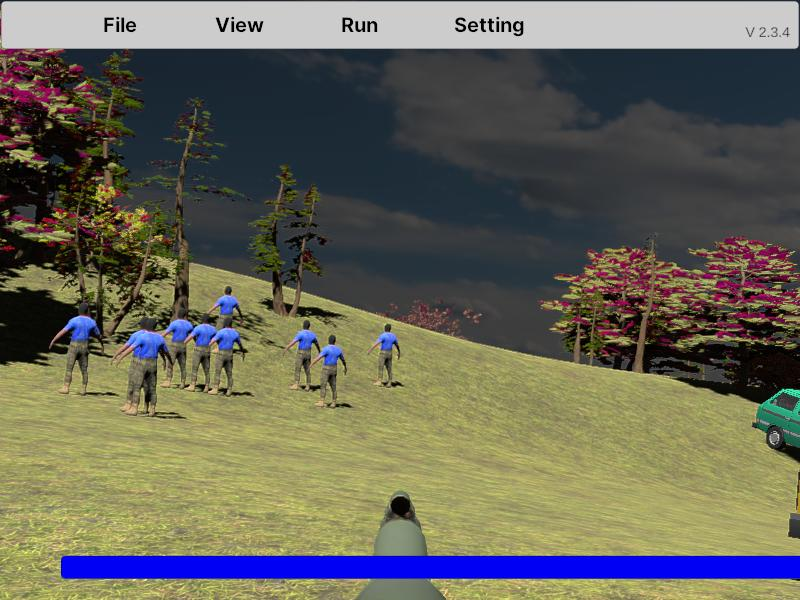Human: (113, 318, 172, 417), (49, 303, 105, 396), (158, 304, 199, 389), (184, 312, 222, 393), (207, 316, 245, 396), (309, 333, 347, 409), (284, 320, 322, 391), (207, 285, 244, 353), (368, 323, 401, 388)
car: (751, 387, 800, 474)
